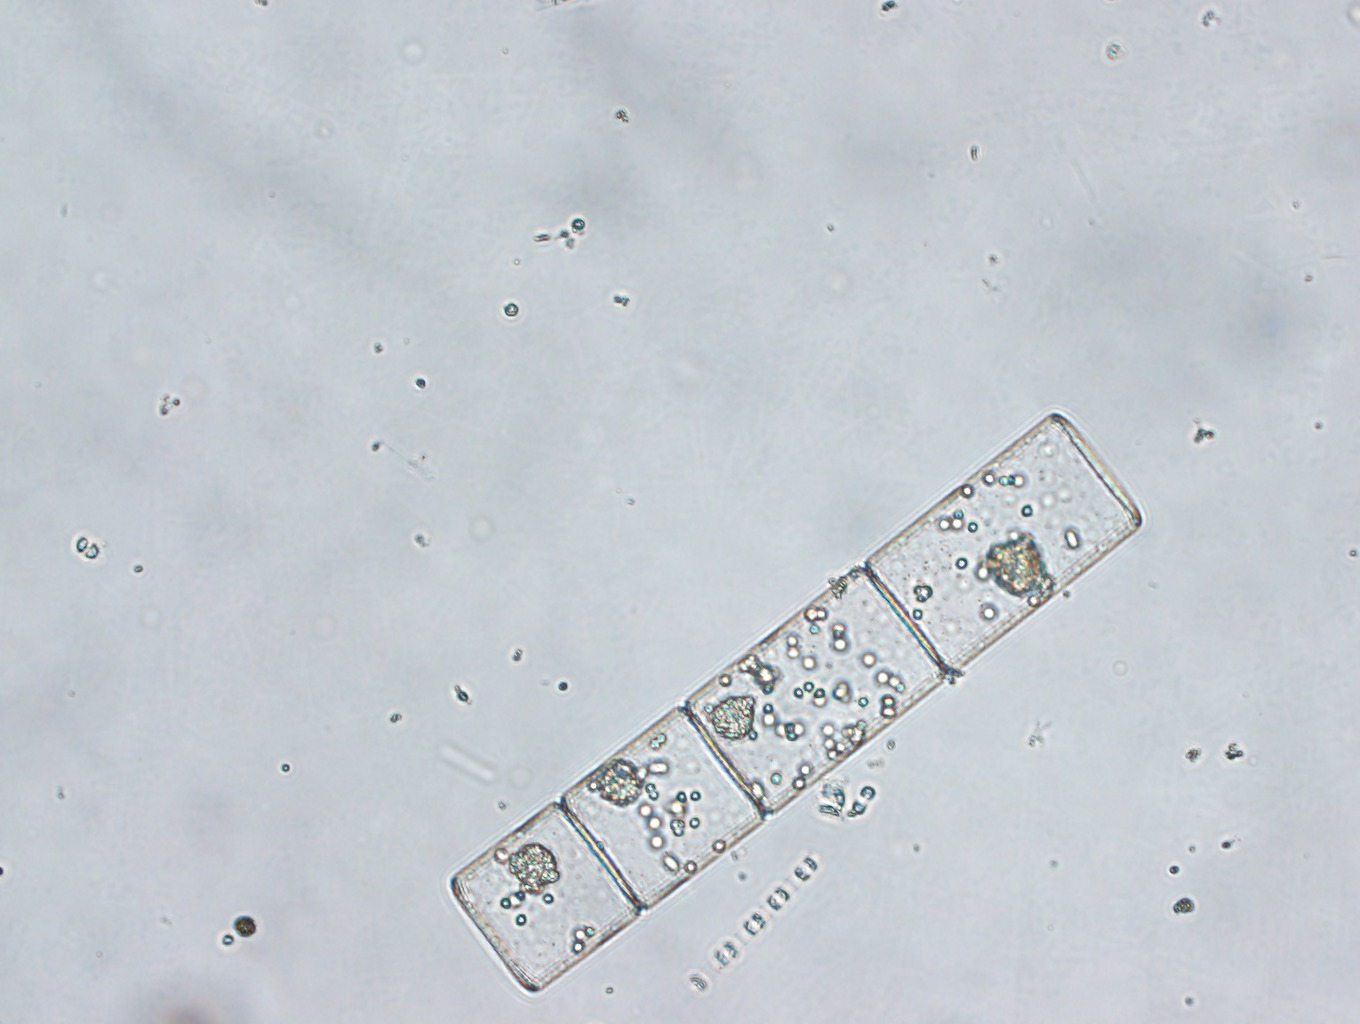guinardia flaccida: (442, 406, 1153, 999)
